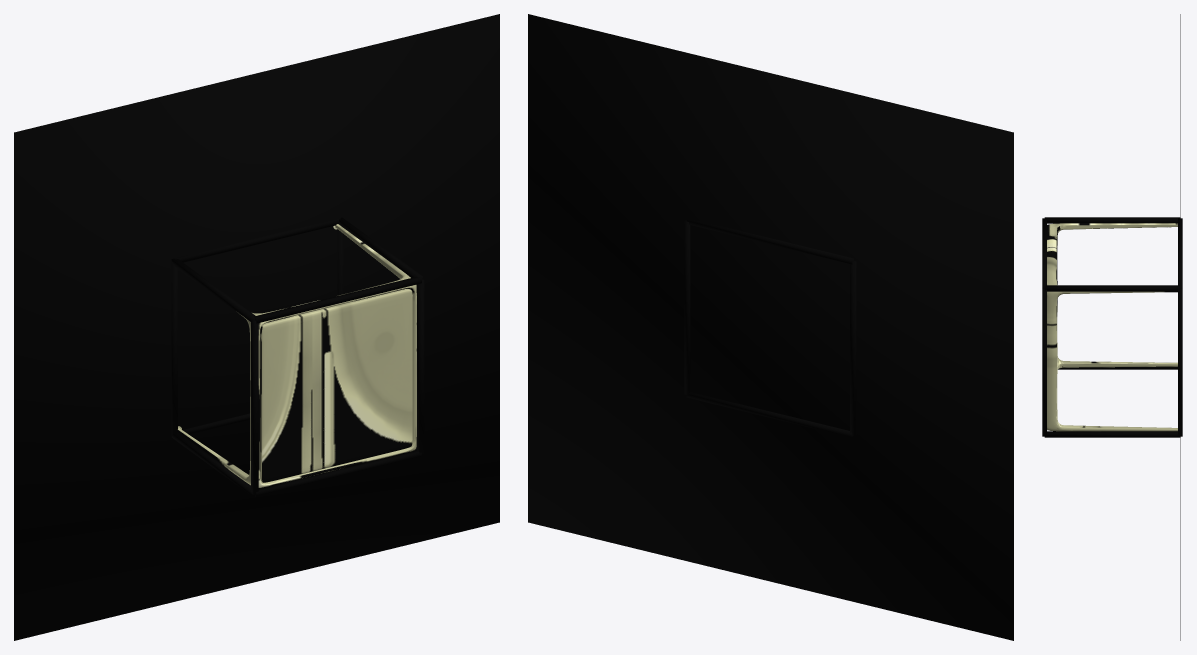
3 renders of one model, left to right at view 1: azimuth 30°, elevation 25°; view 2: azimuth 150°, elevation 25°; view 3: azimuth 270°, elevation 25°, orthographic. The views are drawn at different scales.
Size of the model in its own units: 2 by 2 by 0.5961.
